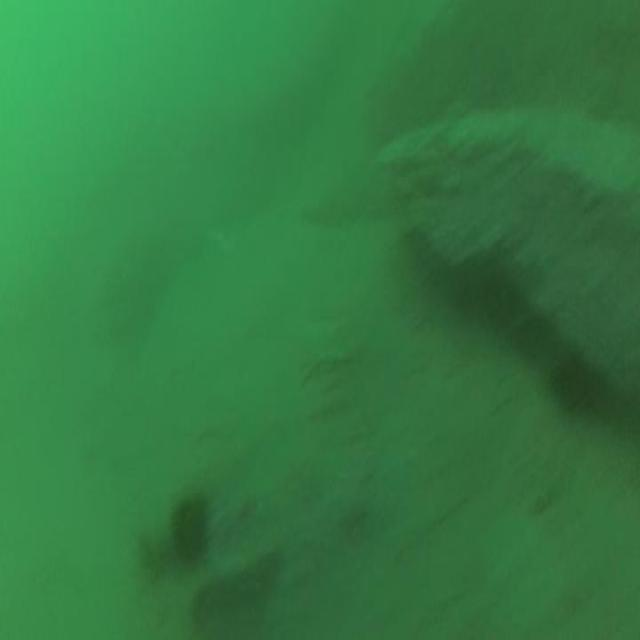echinus: (162, 486, 210, 574)
